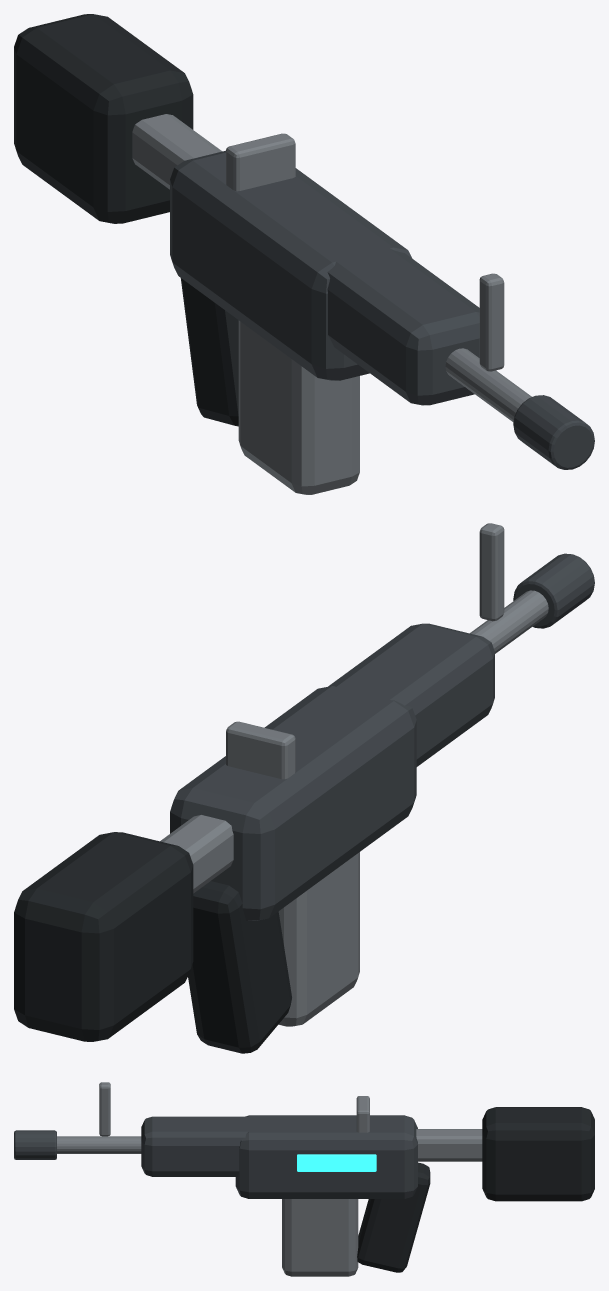
The picture shows the model from 3 angles, top to bottom: view 1: azimuth 30°, elevation 25°; view 2: azimuth 150°, elevation 25°; view 3: azimuth 270°, elevation 25°; orthographic projection. The views are drawn at different scales.
Parts seen in each view (by area): view 1: Receiver.001, Adjustable stock, Upper handguard.001, Magazine.001, Pistol grip.001, Muzzle brake.001, Buffer tube, Rear sight.001, Barrel.001, Front sight.001; view 2: Receiver.001, Adjustable stock, Pistol grip.001, Upper handguard.001, Magazine.001, Muzzle brake.001, Rear sight.001, Buffer tube, Front sight.001, Barrel.001; view 3: Receiver.001, Adjustable stock, Upper handguard.001, Magazine.001, Pistol grip.001, Buffer tube, Barrel.001, Aurora serial plate.001, Muzzle brake.001, Front sight.001, Rear sight.001.
Part boxes in pixels (x1,y1,x2,y2): Receiver.001: [170, 150, 412, 380]; Adjustable stock: [14, 14, 193, 223]; Upper handguard.001: [327, 244, 479, 405]; Magazine.001: [238, 320, 359, 494]; Pistol grip.001: [180, 278, 238, 426]; Muzzle brake.001: [513, 395, 594, 469]; Buffer tube: [132, 114, 222, 189]; Rear sight.001: [226, 133, 295, 191]; Barrel.001: [445, 348, 531, 422]; Front sight.001: [479, 273, 504, 371]; Receiver.001: [170, 686, 416, 920]; Adjustable stock: [14, 832, 193, 1041]; Pistol grip.001: [188, 881, 291, 1053]; Upper handguard.001: [328, 623, 494, 766]; Magazine.001: [278, 852, 359, 1026]; Muzzle brake.001: [513, 553, 594, 628]; Rear sight.001: [226, 721, 295, 779]; Buffer tube: [160, 815, 233, 893]; Front sight.001: [479, 523, 504, 621]; Barrel.001: [470, 590, 548, 653]; Receiver.001: [235, 1115, 417, 1198]; Adjustable stock: [482, 1107, 594, 1201]; Upper handguard.001: [141, 1116, 248, 1176]; Magazine.001: [282, 1199, 358, 1276]; Pistol grip.001: [357, 1162, 430, 1272]; Buffer tube: [416, 1129, 482, 1161]; Barrel.001: [57, 1136, 141, 1153]; Aurora serial plate.001: [297, 1154, 376, 1171]; Muzzle brake.001: [14, 1130, 56, 1159]; Front sight.001: [99, 1082, 110, 1136]; Rear sight.001: [356, 1096, 369, 1132].
Size of the model in its own units: 0.212 by 0.625 by 1.75.
